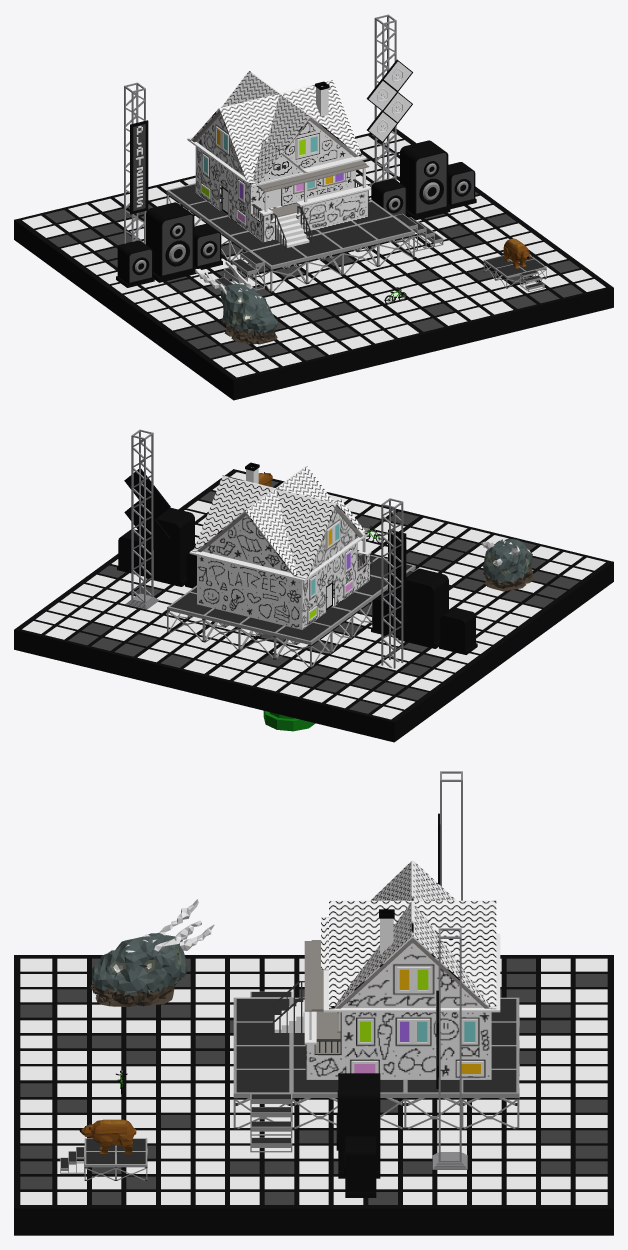
The picture shows the model from 3 angles, top to bottom: view 1: azimuth 30°, elevation 25°; view 2: azimuth 150°, elevation 25°; view 3: azimuth 270°, elevation 25°; orthographic projection. The views are drawn at different scales.
Visible parts, largest first — view 1: Cube.008, Cube.879, OBJRANDOM_METEORITE, ANIMAL_OSO; view 2: Cube.008, Cube.879, OBJRANDOM_METEORITE, UNDERGROUND_PIPES; view 3: Cube.008, Cube.879, OBJRANDOM_METEORITE, ANIMAL_OSO.
Boxes of the visible parts, x1,y1,x2,y2 form: Cube.008: (14, 14, 613, 400); Cube.879: (187, 71, 371, 248); OBJRANDOM_METEORITE: (195, 261, 277, 344); ANIMAL_OSO: (503, 238, 530, 268); Cube.008: (14, 429, 613, 742); Cube.879: (189, 462, 372, 629); OBJRANDOM_METEORITE: (481, 538, 534, 591); UNDERGROUND_PIPES: (263, 711, 315, 731); Cube.008: (14, 771, 613, 1235); Cube.879: (272, 860, 500, 1079); OBJRANDOM_METEORITE: (90, 899, 214, 1006); ANIMAL_OSO: (79, 1119, 136, 1154).
Size of the model in its own units: 4000 by 2555 by 4000.
Materials: 39 (8 with a texture image).
